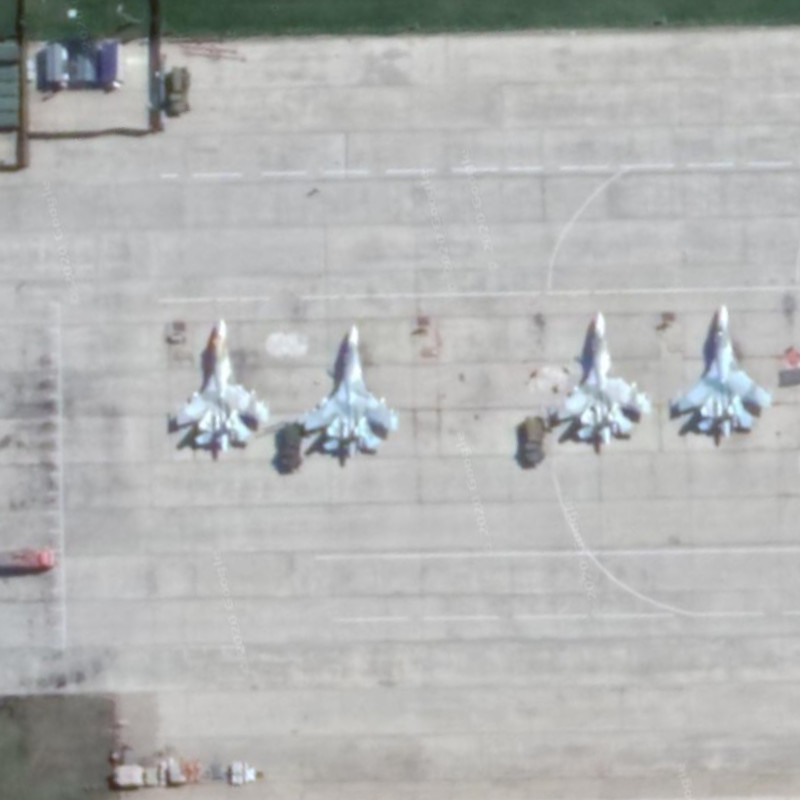A1: (160, 306, 272, 466), (295, 313, 410, 466), (545, 296, 654, 456), (670, 298, 770, 444)
